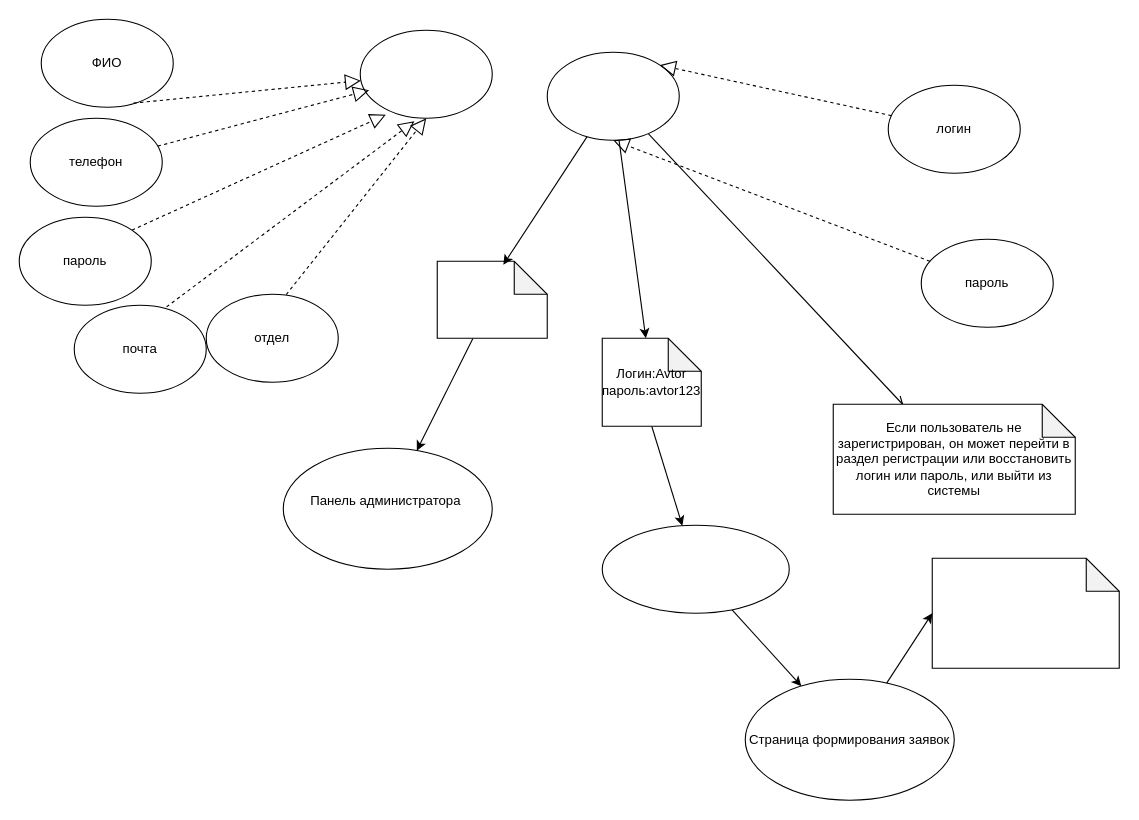
Some shapes in this 1139 by 820 pixel diagram are drawn without their labels. Each missing label, with the centre of its shape:
"Авторизация" belongs at (612,95).
"логин: help пароль:helpme" belongs at (491,299).
"Пользователь выбирает из списка категориюзаявки и описывает проблему." belongs at (1025,612).
"Регистрация" belongs at (425,73).
"Страница заявок" belongs at (695,568).
